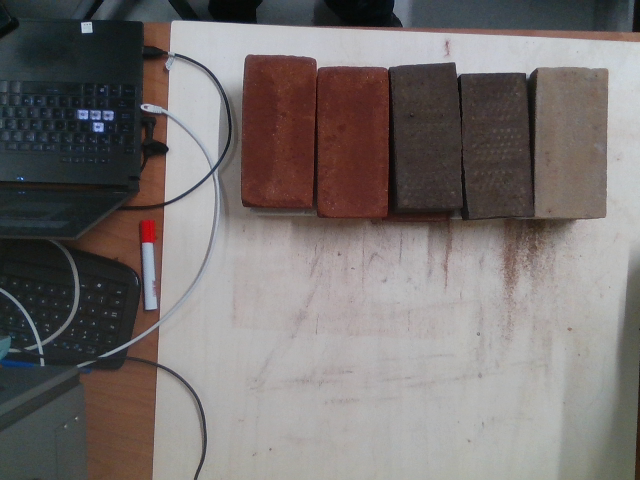brick: (242, 54, 315, 206), (537, 67, 608, 219), (392, 63, 461, 214), (320, 68, 388, 217), (463, 73, 533, 214)
